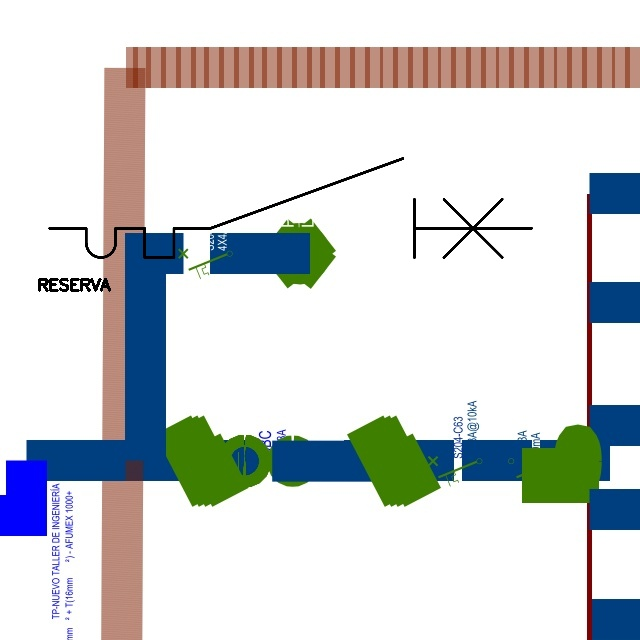interruptor_termomagnetico: (37, 146, 544, 270)
